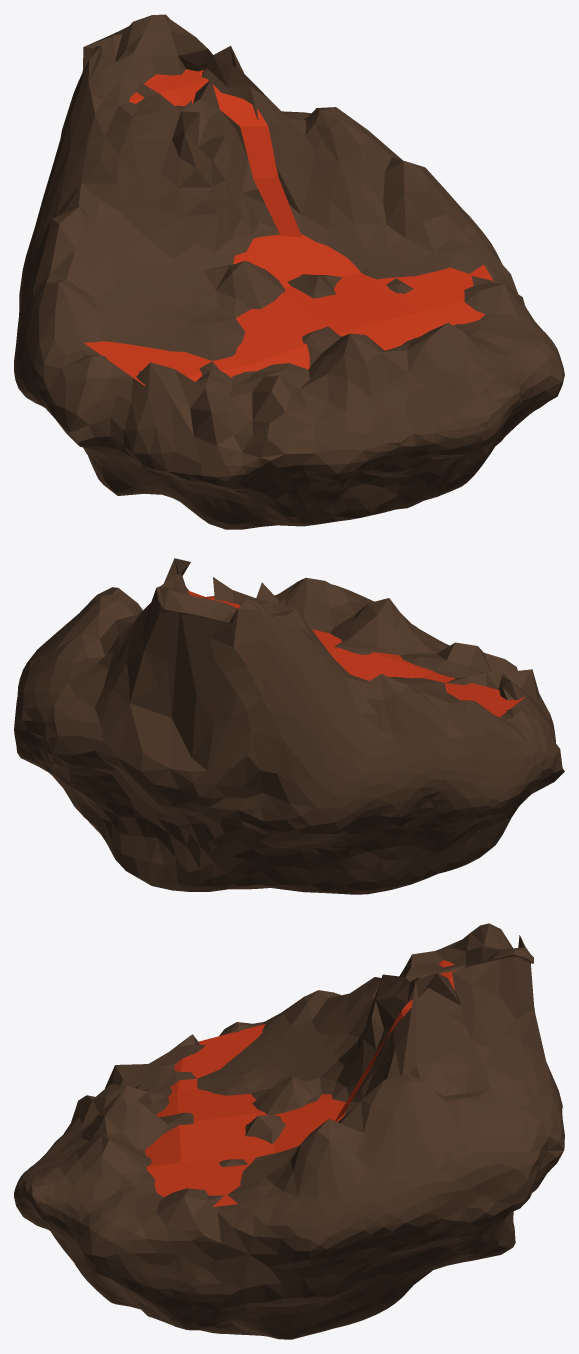
Rendered from volcancito 1.fbx.
3 views of the same model, one above another, from view 1: azimuth 30°, elevation 25°; view 2: azimuth 150°, elevation 25°; view 3: azimuth 270°, elevation 25° (orthographic). The views are drawn at different scales.
Parts seen in each view (by area): view 1: Plane; view 2: Plane; view 3: Plane.
Boxes of the visible parts, x1=… form: Plane: x1=14, y1=14, x2=564, y2=529; Plane: x1=14, y1=558, x2=564, y2=894; Plane: x1=14, y1=923, x2=564, y2=1339.
Size of the model in its own units: 442 by 346 by 476.
